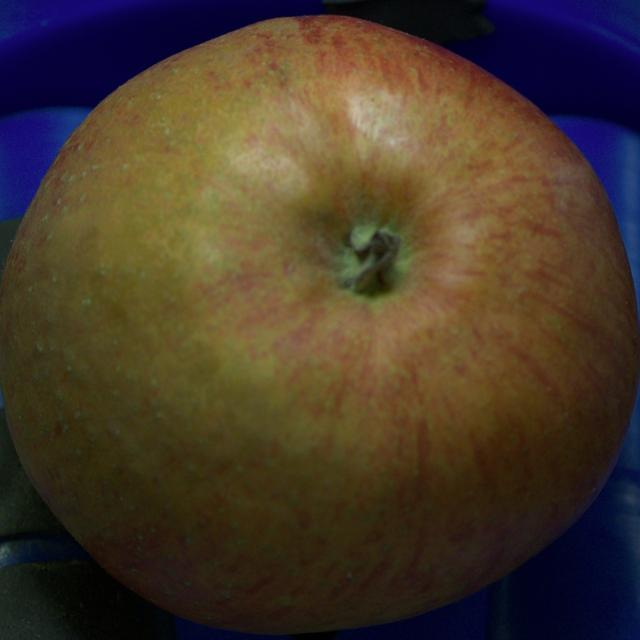apple: (0, 16, 639, 633)
